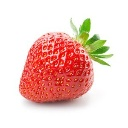strawberry: (17, 24, 113, 104)
